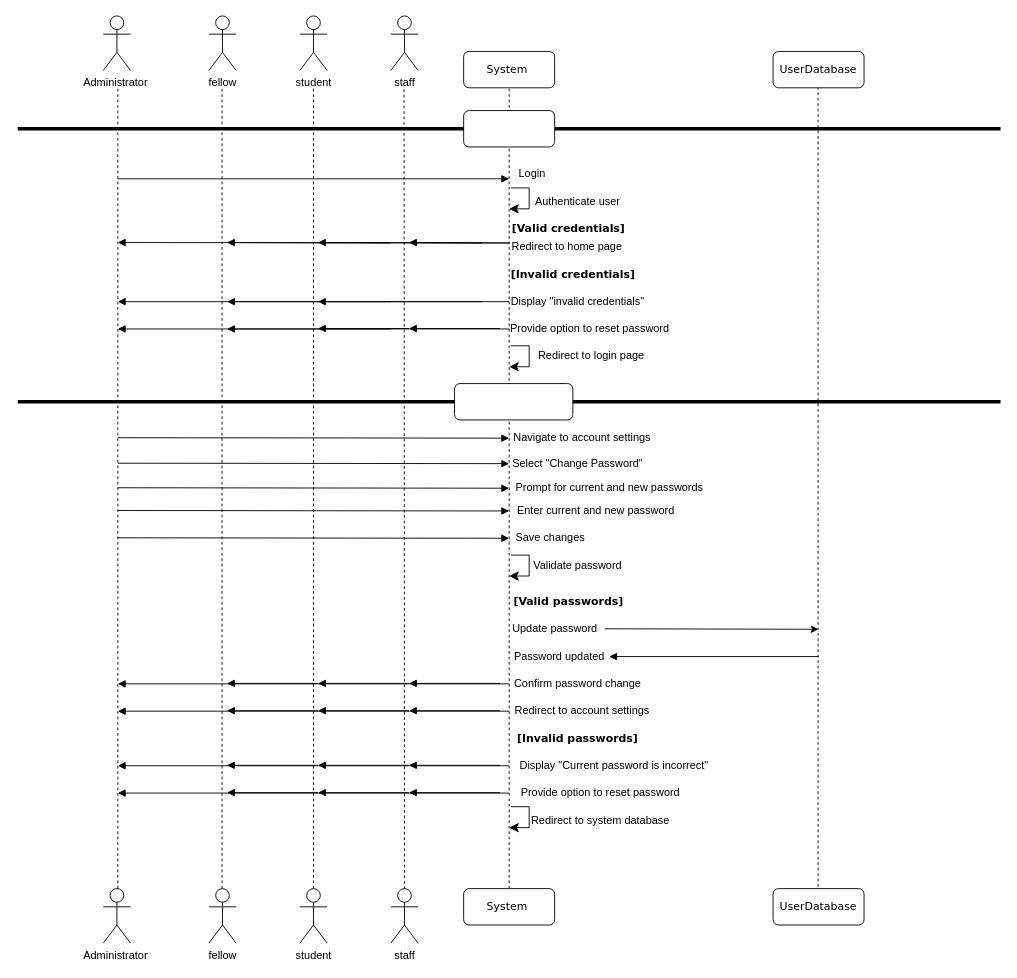
The diagram is 1017 pixels wide and 978 high, and some of its shapes have lost their labels. Each missing label, with the centre of its shape:
"Password Setting" goes at [513,401].
"User login" goes at [509,128].
